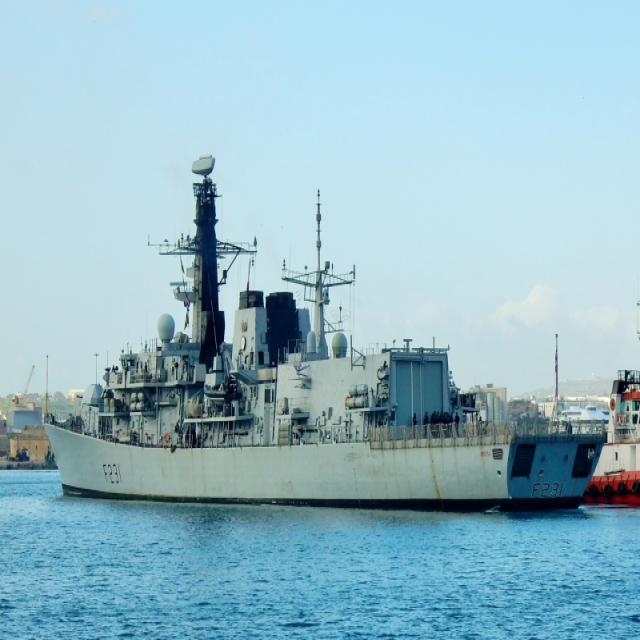Fragata: (39, 146, 612, 518)
